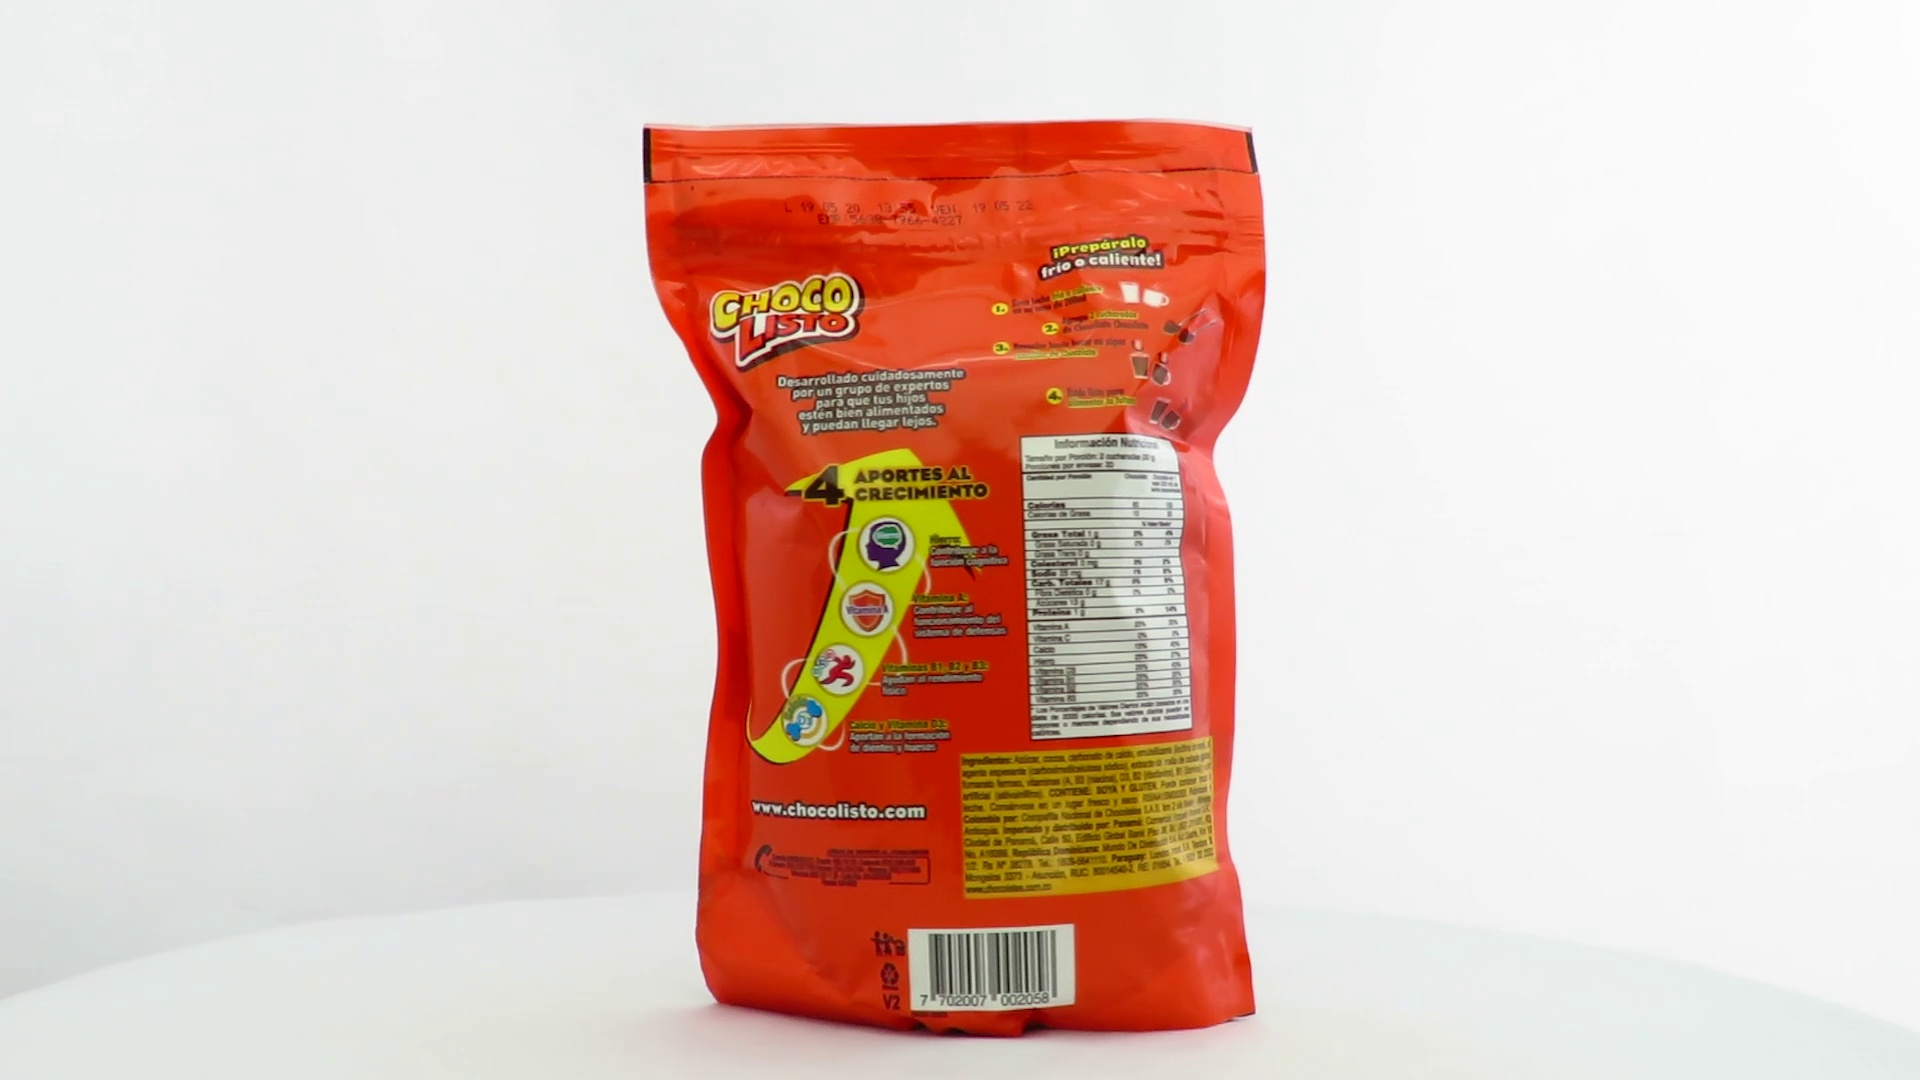COL0170103DYP40000: (637, 115, 1273, 1044)
